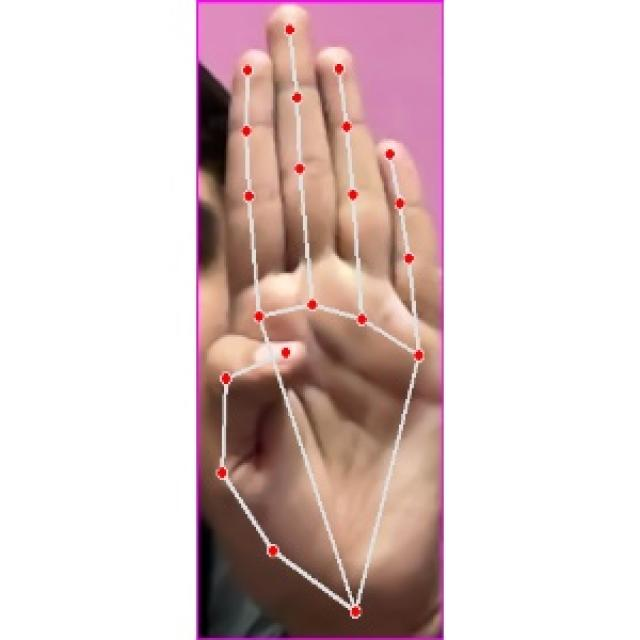B: (202, 1, 442, 640)
